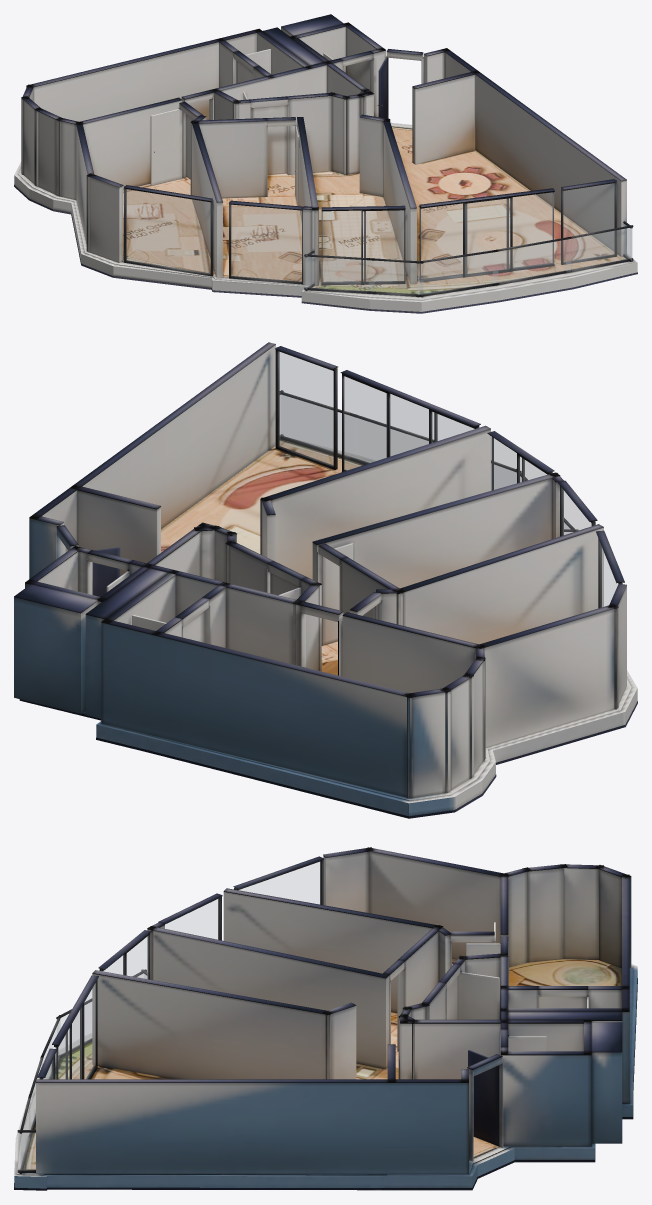
3 renders of one model, top to bottom at view 1: azimuth 30°, elevation 25°; view 2: azimuth 150°, elevation 25°; view 3: azimuth 270°, elevation 25°, orthographic. The views are drawn at different scales.
Parts seen in each view (by area): view 1: plan, glass3_m, glass0_m, glass2_m, glass1_m, glass4_m, railg3_m, railg2_m, railg5_m, railg1_m, railg4_m; view 2: plan, glass3_m, glass4_m, railg1_m, railg2_m, glass2_m, glass1_m, glass0_m; view 3: plan, glass3_m, glass0_m, glass1_m, glass2_m, railg4_m, railg0_m.
Boxes of the visible parts, box(x1,y1,x2,y2) form: plan: box(14, 14, 637, 313); glass3_m: box(420, 192, 553, 279); glass0_m: box(126, 189, 210, 273); glass2_m: box(322, 210, 403, 282); glass1_m: box(231, 205, 301, 281); glass4_m: box(563, 183, 614, 261); railg3_m: box(417, 252, 497, 294); railg2_m: box(493, 239, 570, 283); railg5_m: box(305, 257, 374, 291); railg1_m: box(566, 228, 632, 270); railg4_m: box(369, 260, 422, 294); plan: box(14, 342, 637, 818); glass3_m: box(344, 377, 473, 470); glass4_m: box(279, 352, 333, 465); railg1_m: box(281, 395, 349, 456); railg2_m: box(356, 418, 428, 462); glass2_m: box(491, 436, 546, 490); glass1_m: box(562, 489, 591, 535); glass0_m: box(600, 544, 617, 607); plan: box(14, 847, 637, 1190); glass3_m: box(55, 984, 95, 1078); glass0_m: box(240, 862, 320, 904); glass1_m: box(165, 899, 218, 939); glass2_m: box(104, 936, 147, 978); railg4_m: box(57, 1002, 91, 1054); railg0_m: box(18, 1133, 35, 1169).
Bounding box in the file's own units: 12.77 × 2.62 × 13.97.
Materials: 2 (1 with a texture image).
